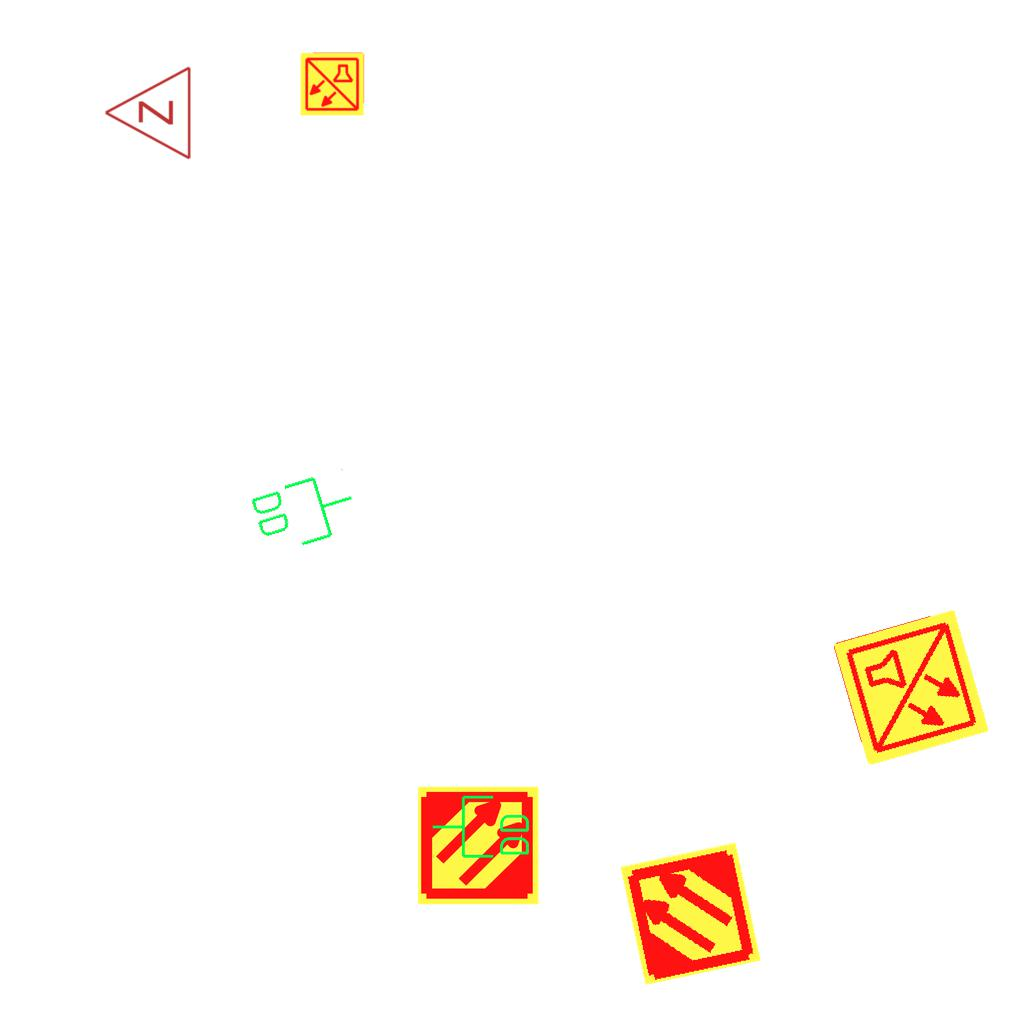ASR_Ansaugrauchmelder: (616, 839, 765, 988), (416, 783, 541, 908)
Datenanschluss_zweifach: (245, 463, 364, 560), (430, 793, 533, 862)
OKW_Multisensormelder_(Kombination_optischer_Rauch-Kahlenmonoxid_Waerme-Melder): (829, 606, 993, 770), (299, 51, 365, 117)
Zimmersignalleuchte: (98, 65, 198, 163)
